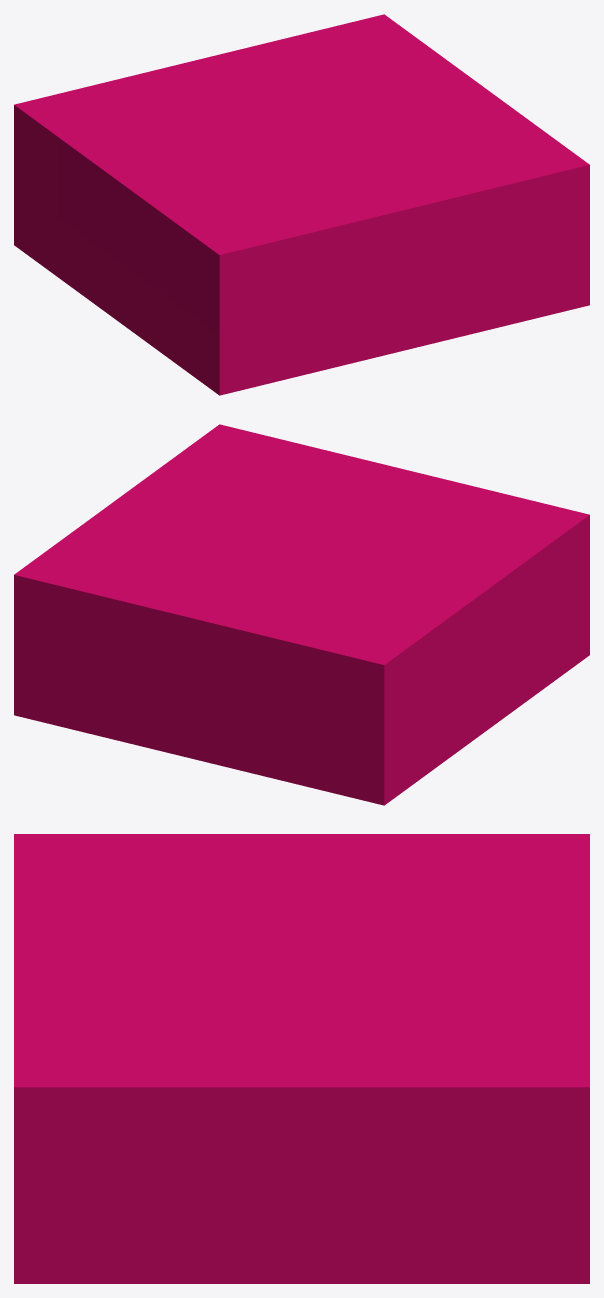
3 views of the same model, one above another, from view 1: azimuth 30°, elevation 25°; view 2: azimuth 150°, elevation 25°; view 3: azimuth 270°, elevation 25° (orthographic). The views are drawn at different scales.
Size of the model in its own units: 3.75 by 1.36 by 3.6.
